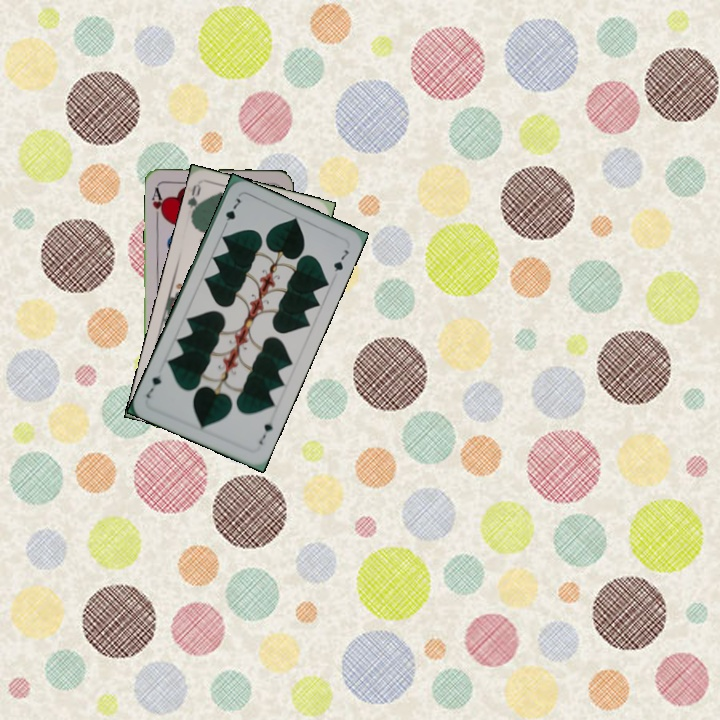G7: (220, 194, 245, 231), (255, 414, 276, 447)
GO: (185, 181, 206, 222)
HA: (148, 182, 167, 222)
